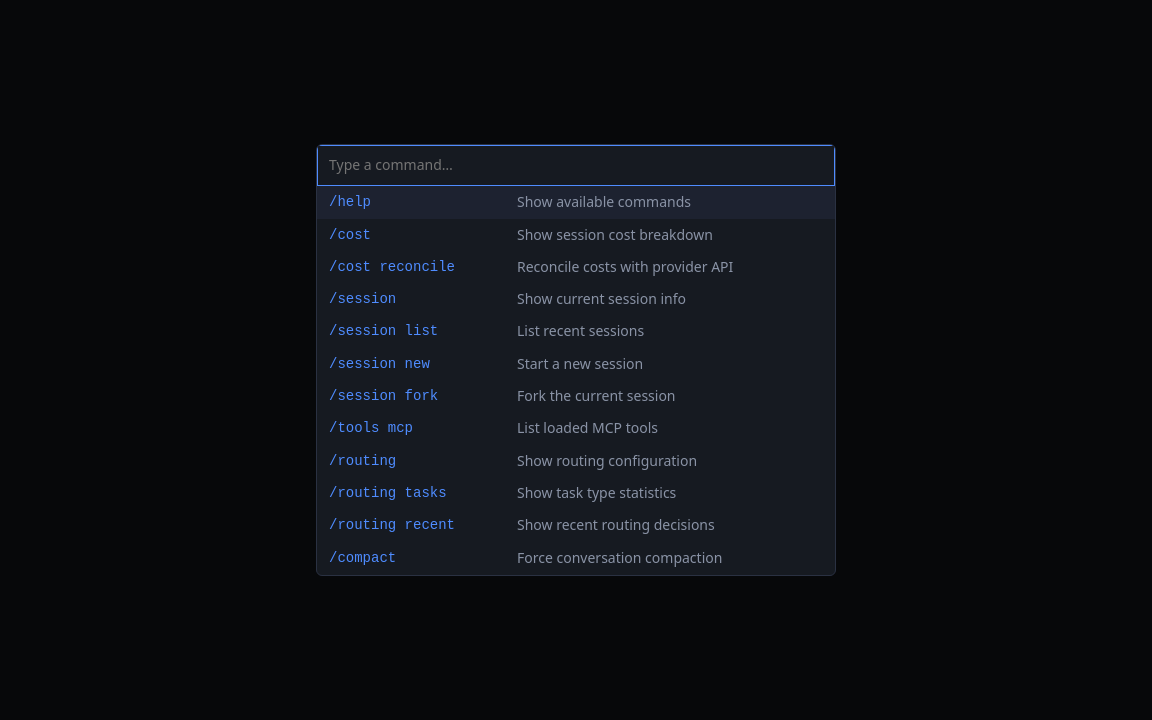
it: CommandPalette › shows an empty state when no matches
Step 1. Type "zzzzz-no-match" into the field with test id "command-palette-input" → (576, 166), box [317, 145, 835, 186]
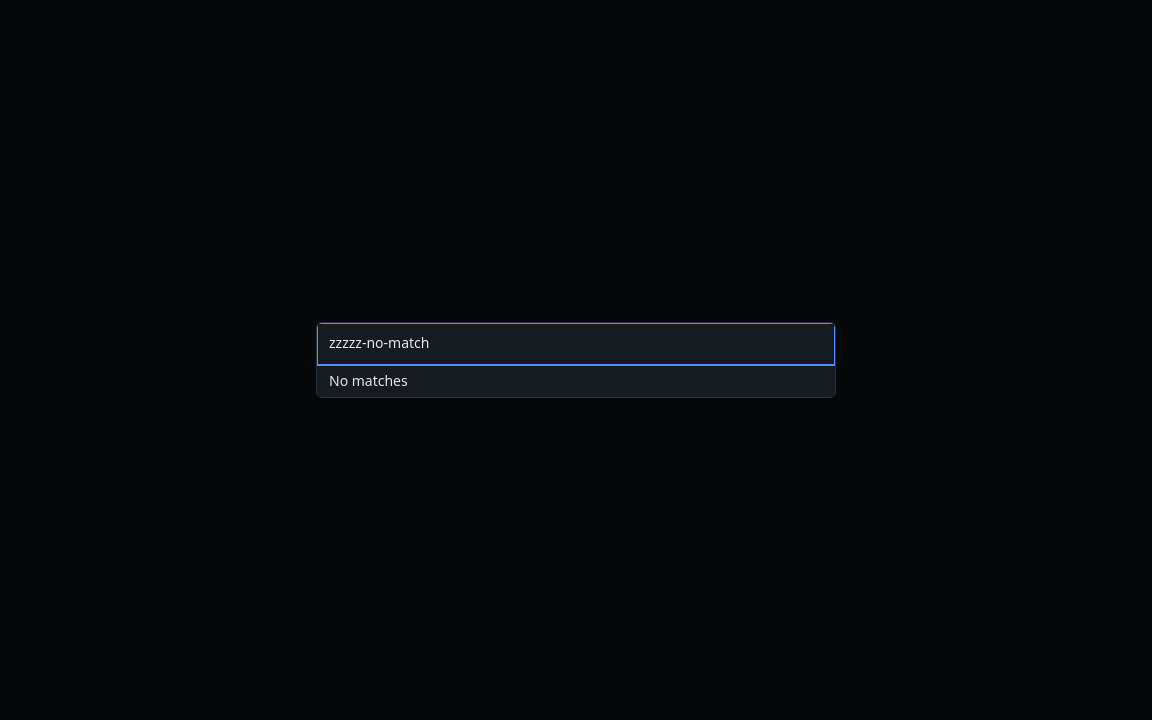
Check: the list item with test id "command-palette-empty" is shown, box [329, 370, 408, 390]
